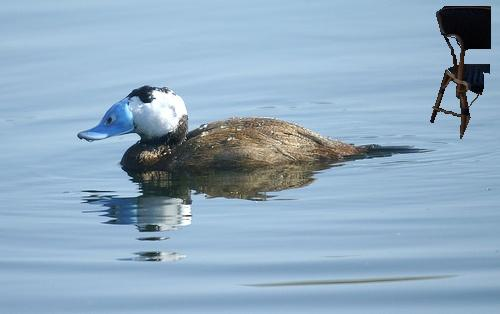tampered: (431, 7, 491, 139)
